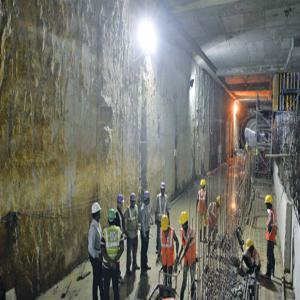blue: (130, 193, 138, 209), (117, 194, 125, 209), (144, 191, 151, 206), (161, 183, 167, 196)
white: (92, 202, 103, 221)
yellow: (181, 212, 190, 231), (162, 216, 170, 233), (247, 237, 255, 253), (266, 195, 274, 211), (216, 197, 223, 208), (201, 179, 207, 189)
